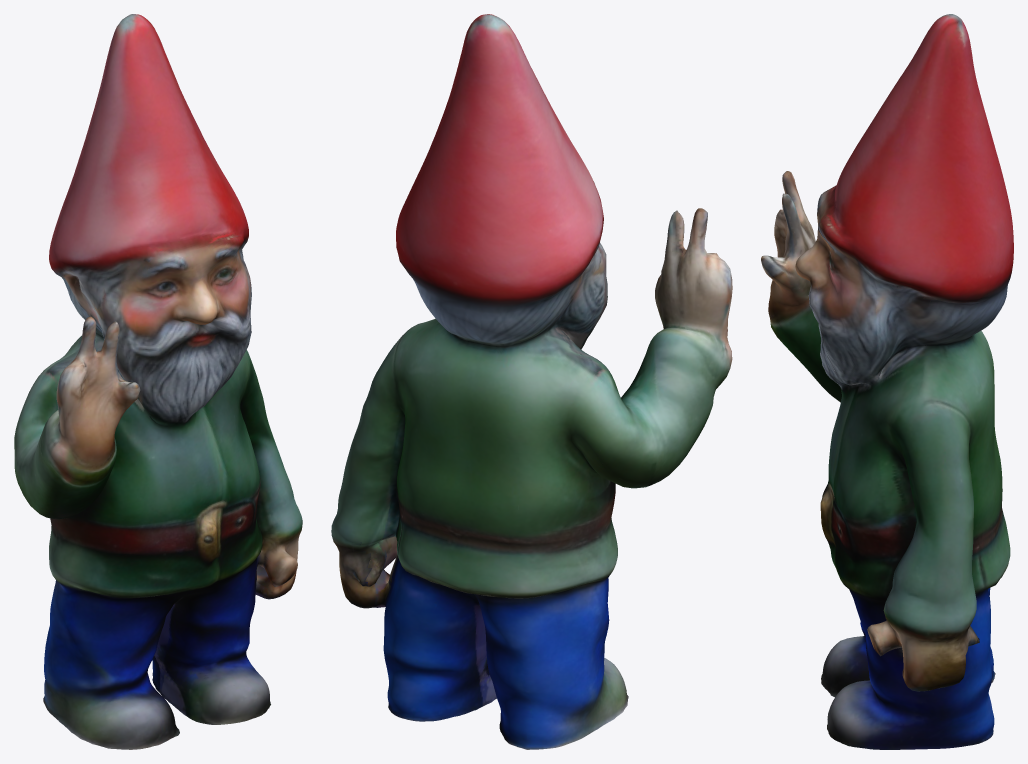
The model's file is Gartenzwerg.glb.
The picture shows the model from 3 angles, left to right: view 1: azimuth 30°, elevation 25°; view 2: azimuth 150°, elevation 25°; view 3: azimuth 270°, elevation 25°; orthographic projection. The views are drawn at different scales.
Visible parts, largest first — view 1: Mesh_0; view 2: Mesh_0; view 3: Mesh_0.
Part boxes in pixels (box(x1,y1,x2,y2)): Mesh_0: box(14, 14, 302, 749); Mesh_0: box(331, 14, 732, 749); Mesh_0: box(761, 14, 1013, 749).
Bounding box in the file's own units: 0.9478 × 1.97 × 0.6571.
Materials: 1 (1 with a texture image).
